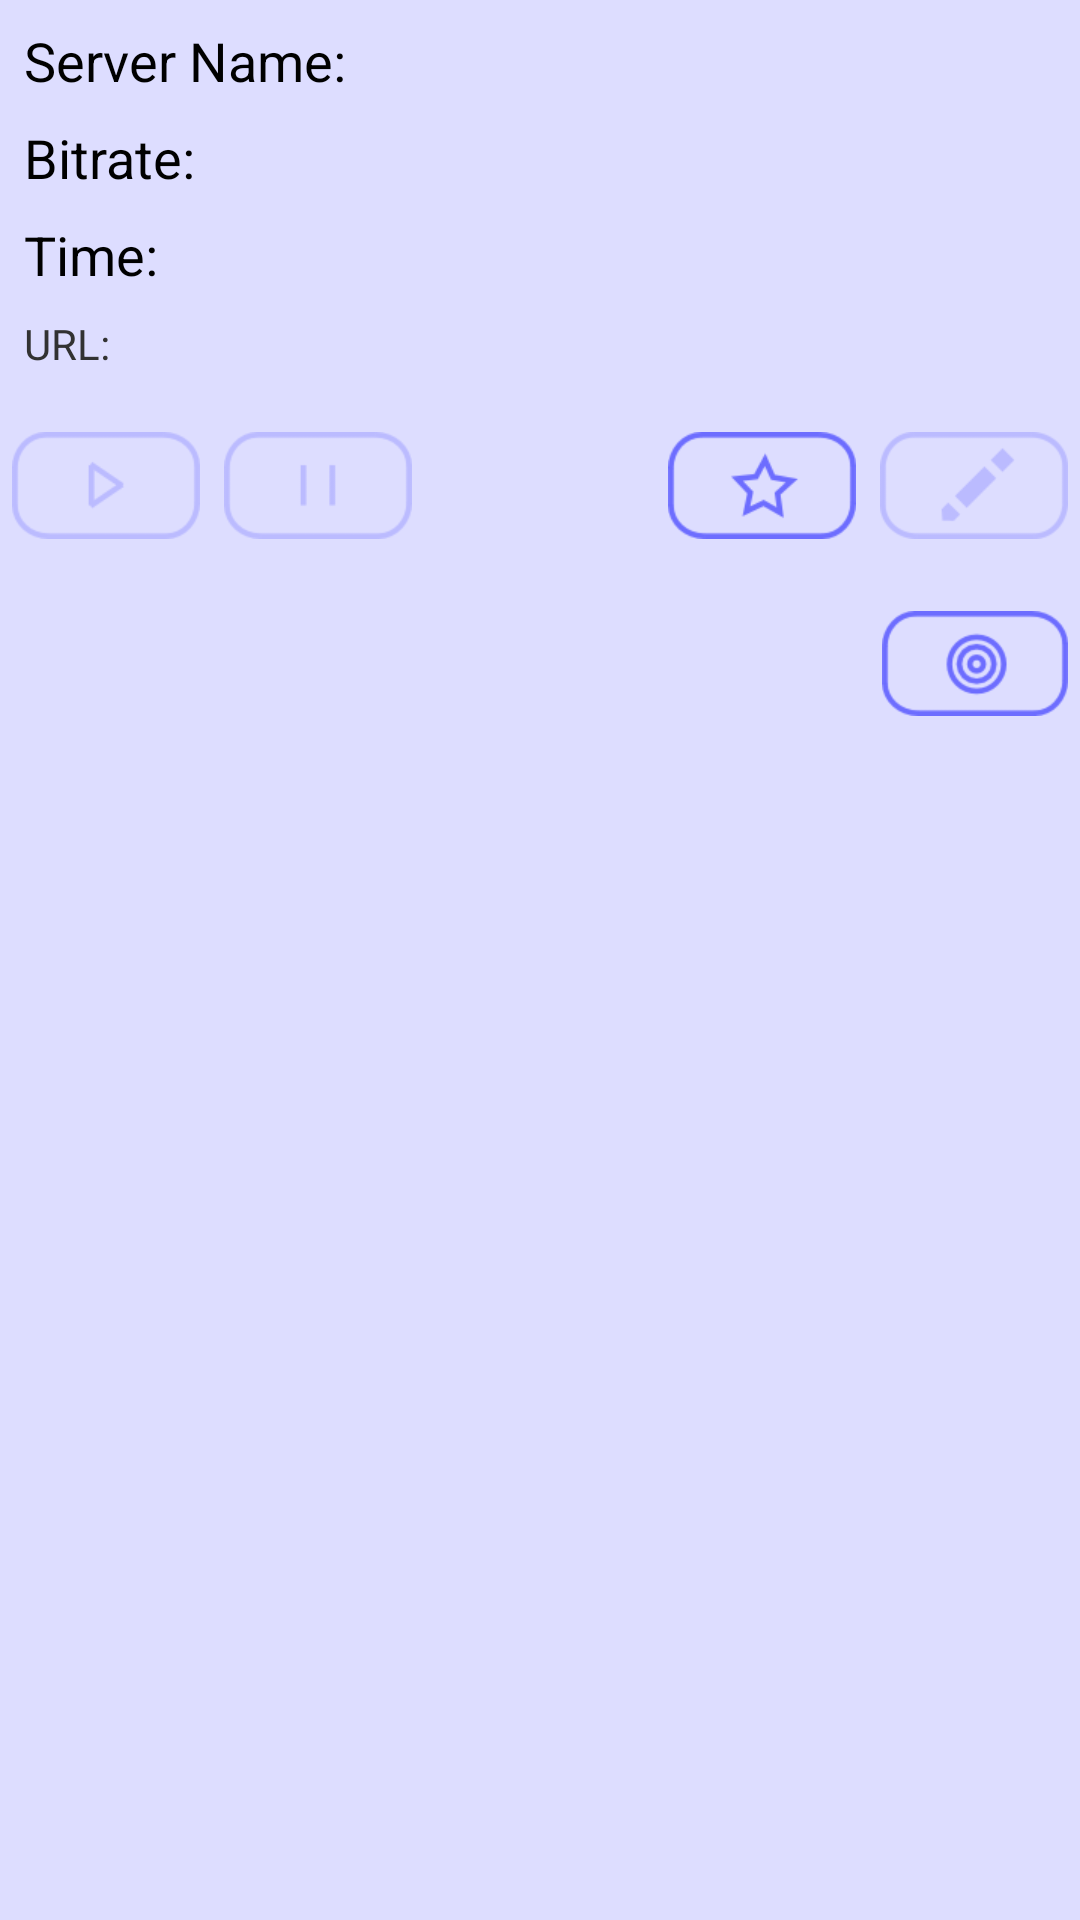

Icon bounding boxes for this 1080px x 1920px phone screenshot, format [x1=x1, y1=y1, x2=x2, y2=y2]:
Add to favourites: [x1=668, y1=432, x2=856, y2=539]
Pause: [x1=224, y1=432, x2=412, y2=539]
Play: [x1=12, y1=432, x2=200, y2=539]
